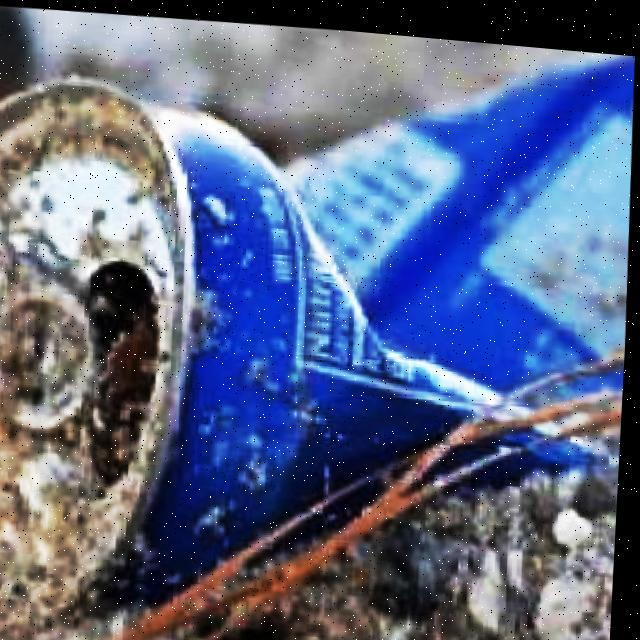Lata: (3, 56, 635, 640)
